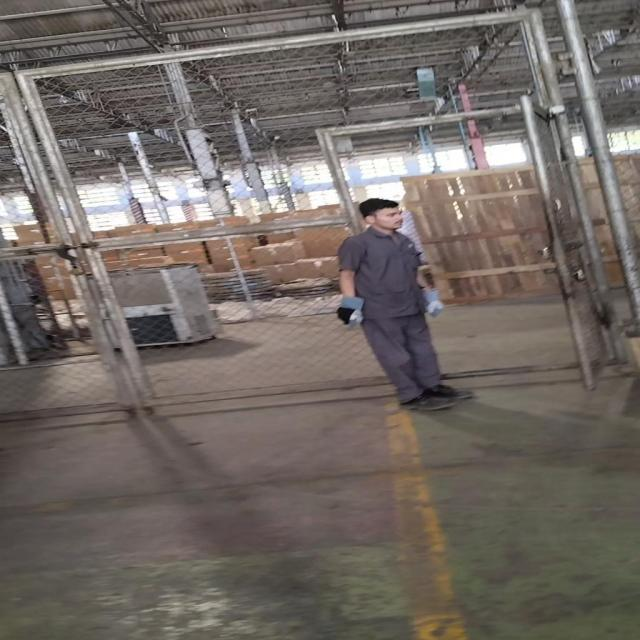Gloves-Detection: (330, 293, 370, 330), (416, 286, 444, 315)
